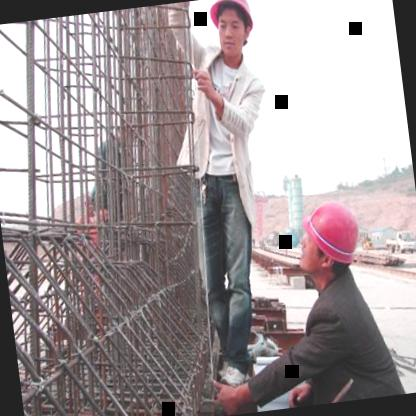helmet: (292, 191, 373, 282), (203, 0, 263, 67)
